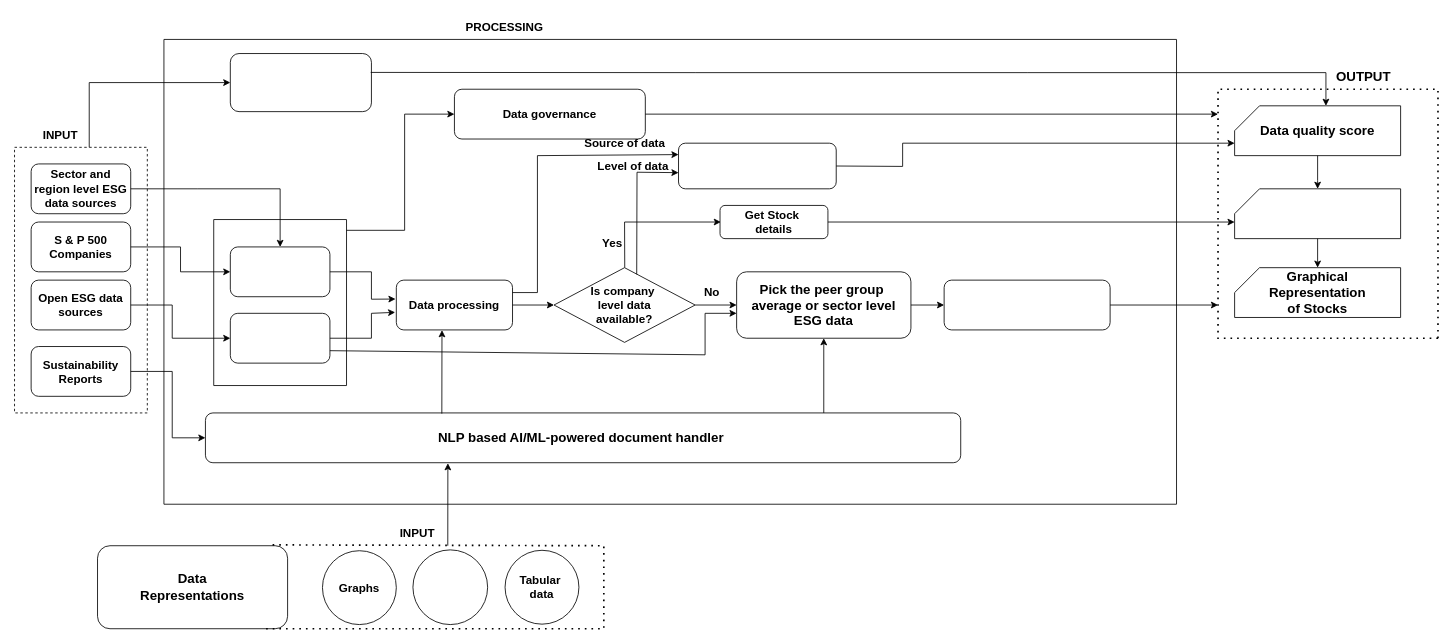
Image size: 1454x644. Some labels were removed from this diagram. Each missing label, with the centre of its shape:
"Abstract to company level" goes at [1026,304].
"API handler" goes at [279,337].
"Data dump" goes at [279,271].
"Data quality scoring" goes at [757,165].
"Data Source Quality Management" goes at [300,82].
"ESG Performance" goes at [1317,213].
"Infographics" goes at [450,587].
